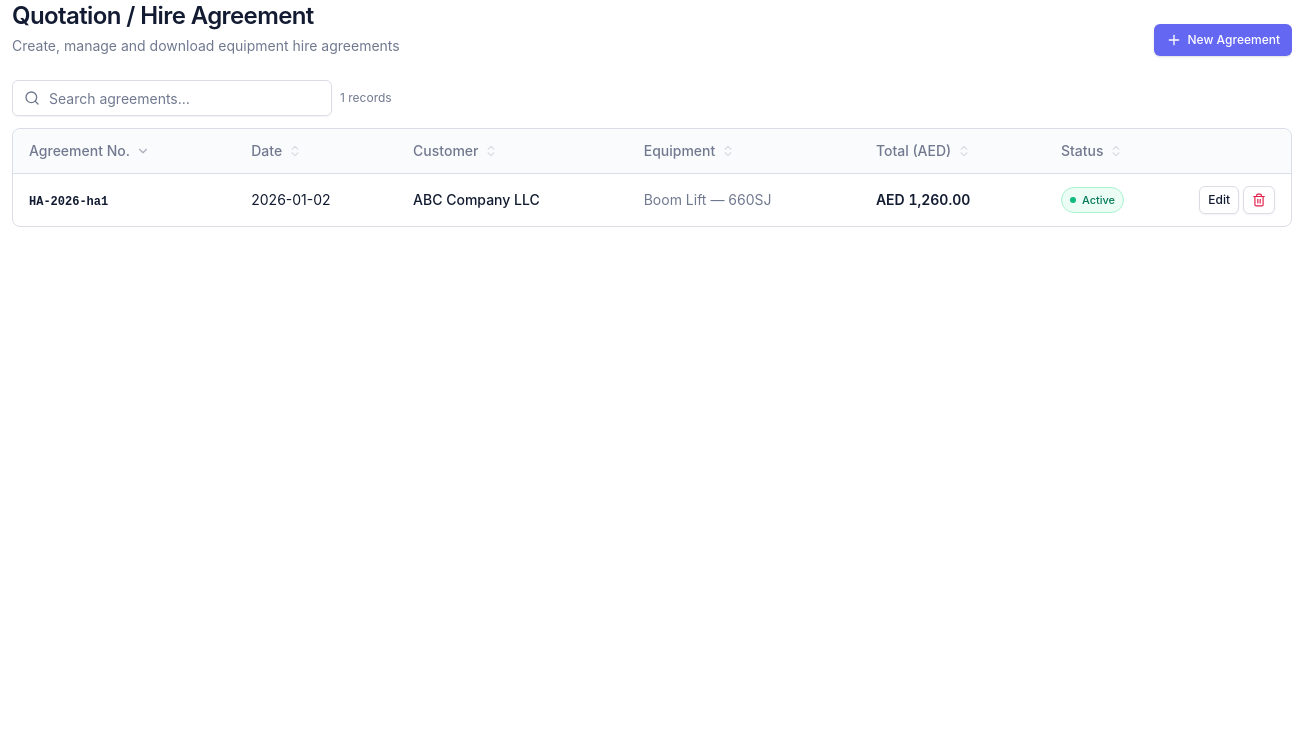
Test: HireAgreementPage (API) › on 409 STALE_VERSION offers a reload that keeps what the user typed
Later steps or results of the test are not shown.
Click the button "Edit" at [1219, 200], box [1199,186,1239,214]
(page scrolled)
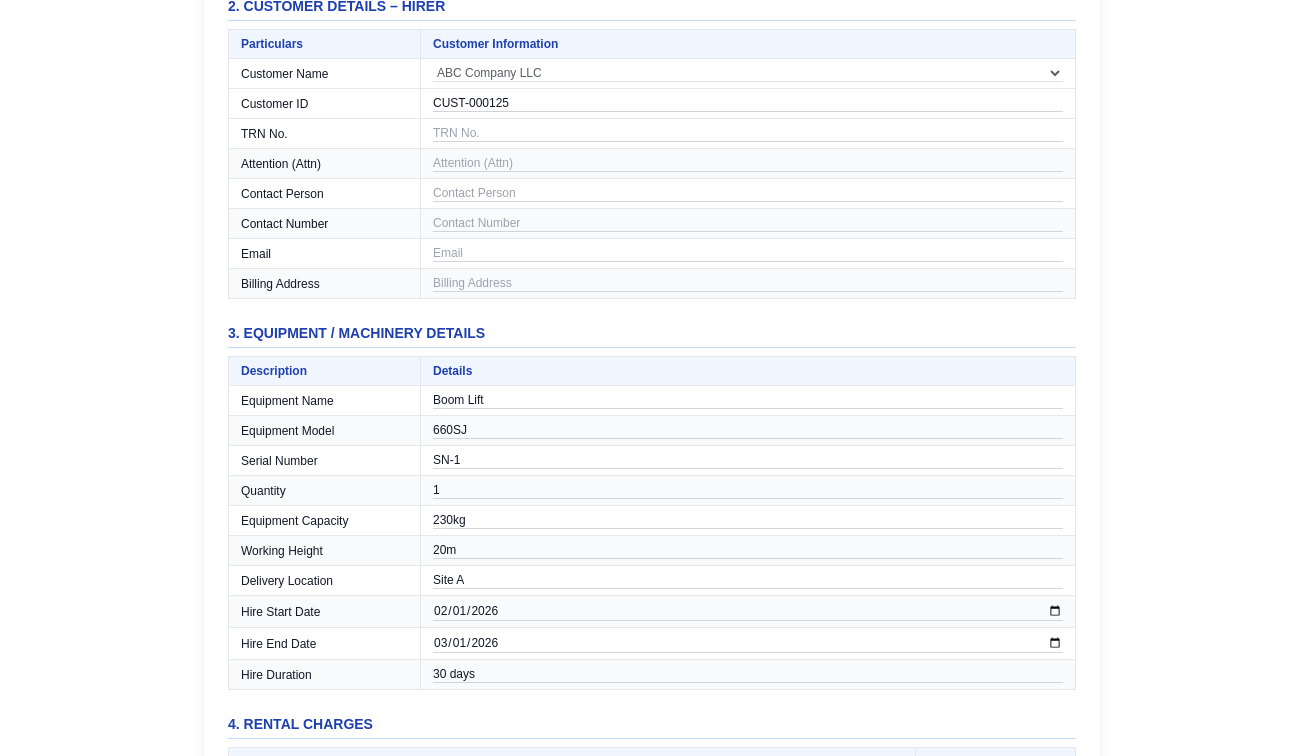
Replace the text in the field with placeholder "Equipment Name" next to "Equipment Name" with "My edit" at [748, 400], box [433,392,1063,409]
(page scrolled)
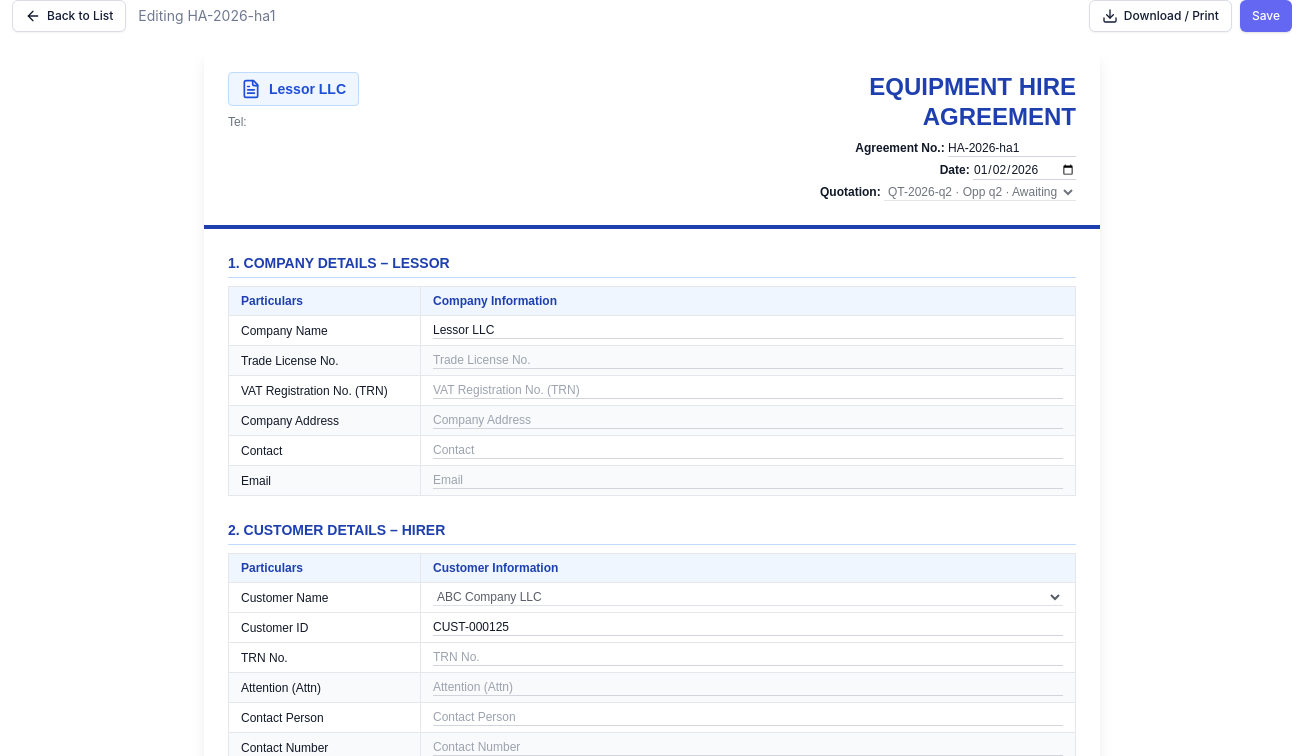
Click the button "Save" at [1266, 16], box [1240,0,1292,32]
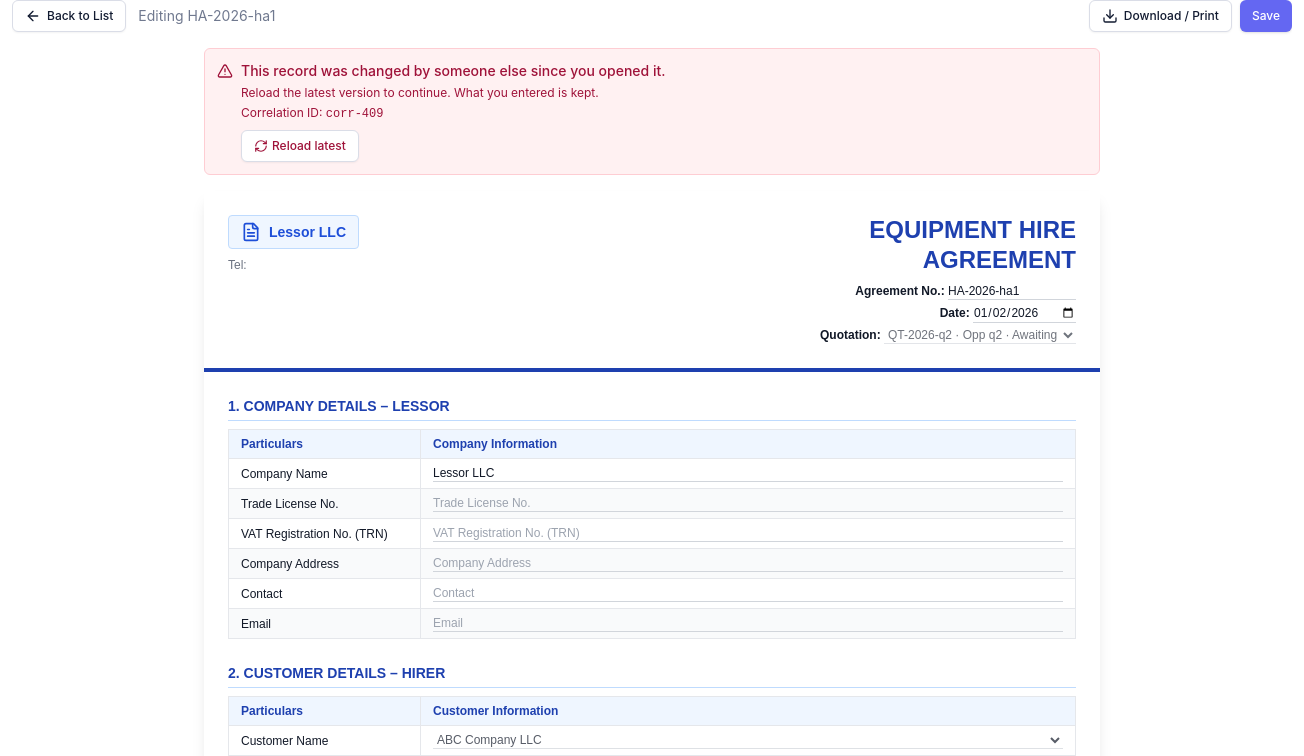
Check: the text "This record was changed by someone else since you opened it." is shown, box [241,62,666,79]
Click the button "Reload latest" at [300, 146], box [241,130,359,162]
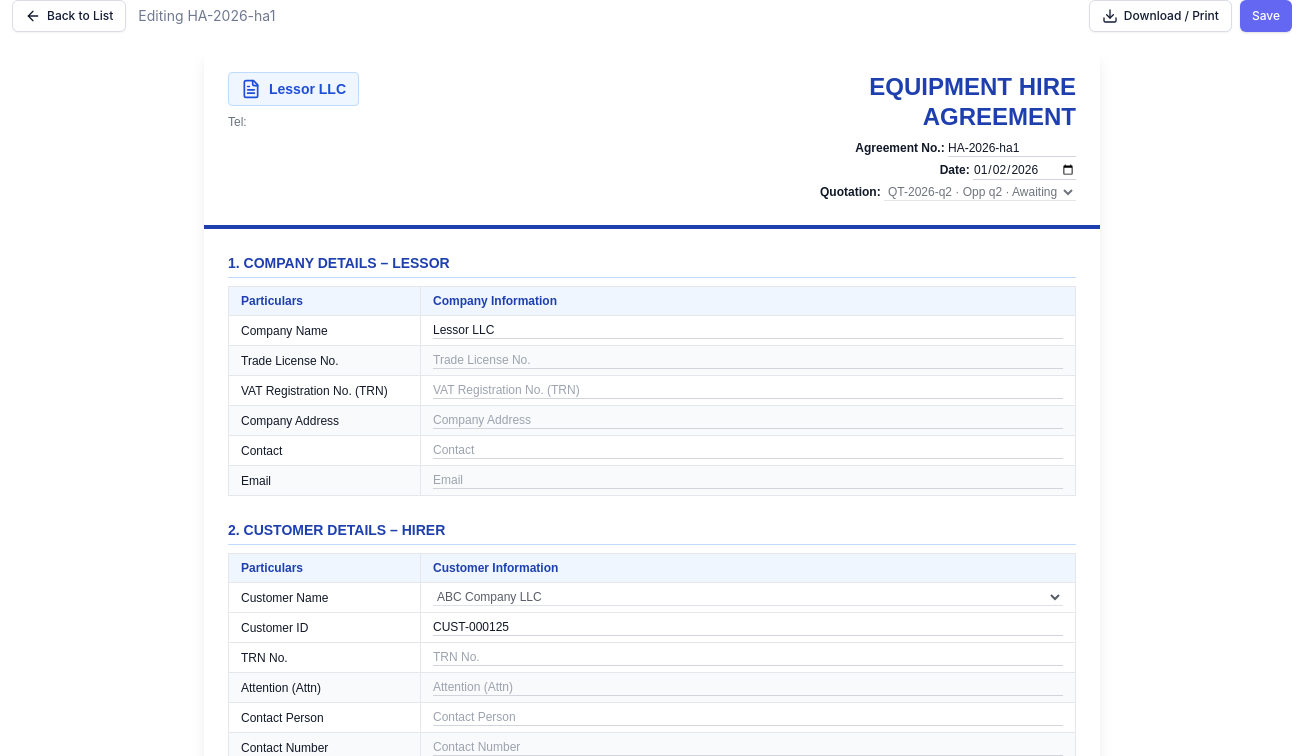
Check: the message with test id "api-error" is gone
